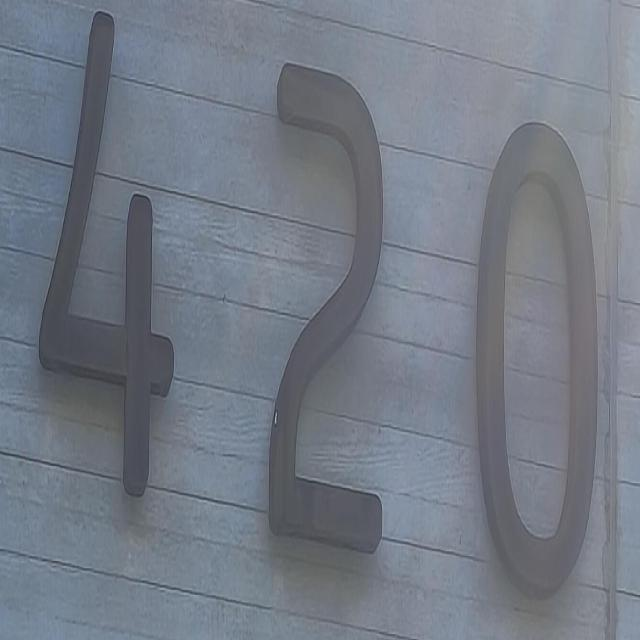character: (32, 0, 182, 515), (256, 56, 395, 578), (471, 111, 605, 610)
